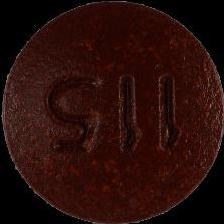61786-795: (0, 0, 224, 224)
